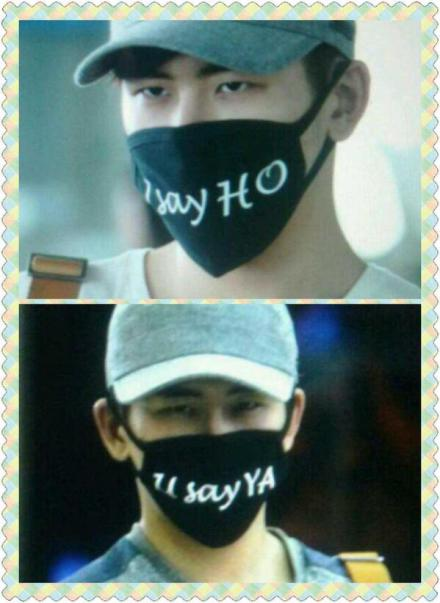face_mask: (115, 20, 303, 279), (130, 348, 282, 542)
